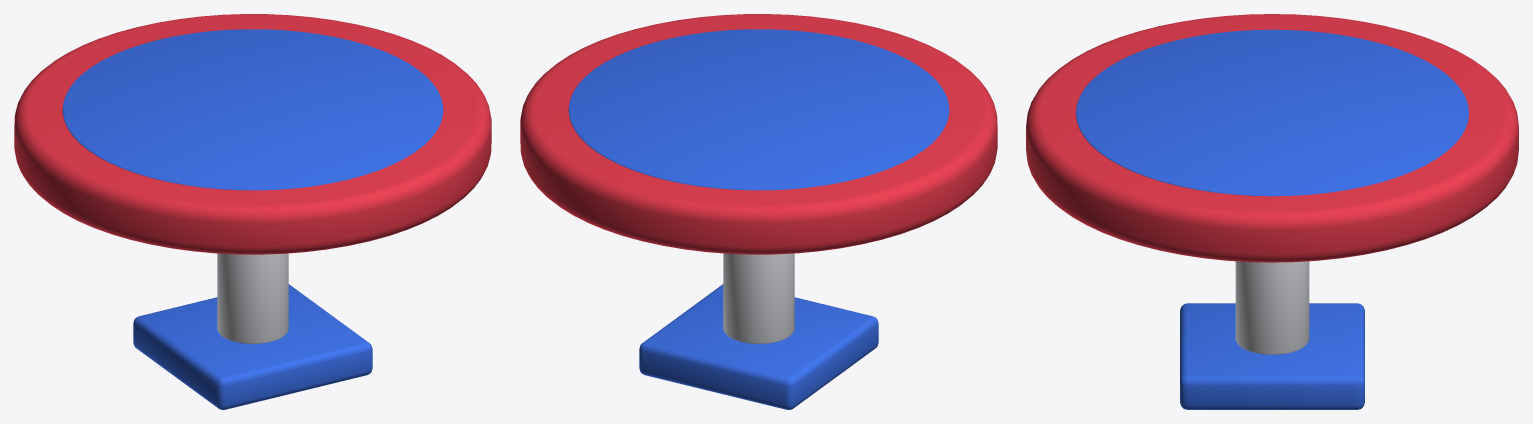
The model's file is SD_JumpPad_Large.fbx.
3 renders of one model, left to right at view 1: azimuth 30°, elevation 25°; view 2: azimuth 150°, elevation 25°; view 3: azimuth 270°, elevation 25°, orthographic. The views are drawn at different scales.
Visible parts, largest first — view 1: JumpPad_Large; view 2: JumpPad_Large; view 3: JumpPad_Large.
Boxes of the visible parts, x1=… form: JumpPad_Large: x1=14, y1=14, x2=491, y2=409; JumpPad_Large: x1=520, y1=14, x2=997, y2=409; JumpPad_Large: x1=1026, y1=14, x2=1518, y2=409.
Size of the model in its own units: 4 by 2.34 by 4.
